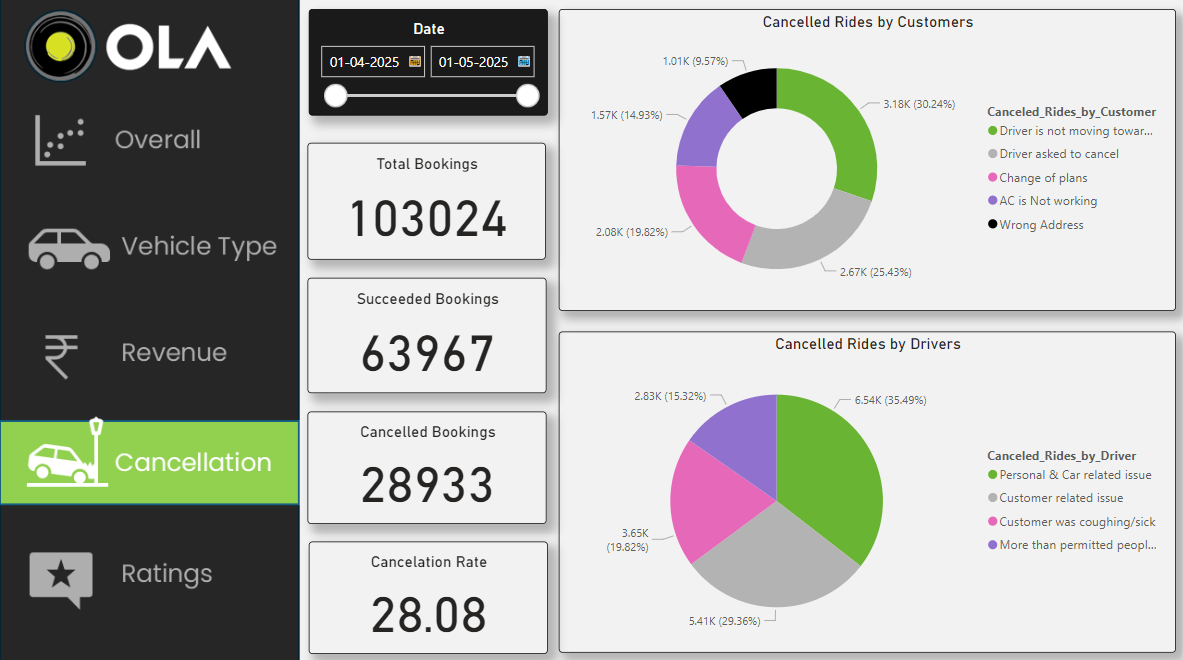

Layout of this report page (visuals, bound fields, positions):
{"tool":"powerbi","page":{"name":"Cancellation","canvas":[1280,720],"ordinal":3},"visuals":[{"type":"actionButton","box":[0,225.6,324.4,88.4],"z":0},{"type":"actionButton","box":[0,337.2,324.4,88.4],"z":1000},{"type":"actionButton","box":[0,576.7,324.4,88.4],"z":2000},{"type":"actionButton","box":[0,110.5,324.4,88.4],"z":3000},{"type":"donutChart","title":"Cancelled Rides by Customers ","fields":{"Category":["Bookings.Canceled_Rides_by_Customer"],"Y":["CountNonNull(Bookings.Canceled_Rides_by_Customer)"]},"box":[603.8,11.2,667.5,326.2],"z":4000},{"type":"pieChart","title":"Cancelled Rides by Drivers","fields":{"Category":["Bookings.Canceled_Rides_by_Driver"],"Y":["CountNonNull(Bookings.Canceled_Rides_by_Driver)"]},"box":[603.8,360,667.5,347.5],"z":5000},{"type":"slicer","title":"Date","fields":{"Values":["Bookings.Date"]},"box":[333.8,11.2,258.8,115],"z":6000},{"type":"card","title":"Total Bookings","fields":{"Values":["Count(Bookings.Booking_ID)"]},"box":[332.5,155,257.5,126.2],"z":7000},{"type":"card","title":"Succeeded Bookings","fields":{"Values":["Count(Bookings.Booking_ID)"]},"box":[332.5,301.2,258.8,125],"z":8000},{"type":"card","title":"Cancelled Bookings","fields":{"Values":["Count(Bookings.Booking_ID)"]},"box":[332.5,446.2,258.8,121.2],"z":9000},{"type":"card","title":"Cancelation Rate","fields":{"Values":["Bookings.CanceledPercentage"]},"box":[333.8,586.2,258.8,121.2],"z":10000}]}

Visuals, with their boxes in screenshot pixels (x1, y1, x2, y2), scaled from the page's 1280x720 canvas onto the 1183x660 screenshot:
actionButton: 0, 207, 300, 288
actionButton: 0, 309, 300, 390
actionButton: 0, 529, 300, 610
actionButton: 0, 101, 300, 182
"Cancelled Rides by Customers " donutChart: 558, 10, 1175, 309
"Cancelled Rides by Drivers" pieChart: 558, 330, 1175, 649
"Date" slicer: 309, 10, 548, 116
"Total Bookings" card: 307, 142, 545, 258
"Succeeded Bookings" card: 307, 276, 546, 391
"Cancelled Bookings" card: 307, 409, 546, 520
"Cancelation Rate" card: 309, 537, 548, 648
